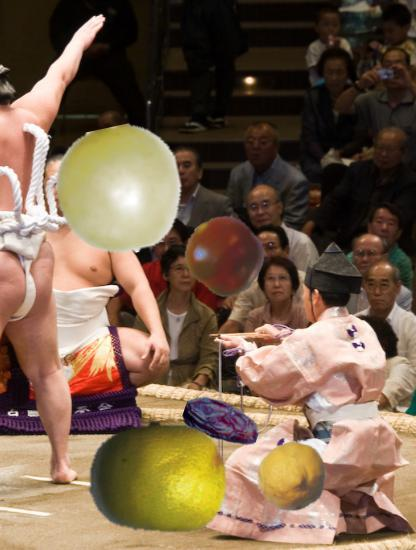Dates: (183, 382, 261, 460)
Grape: (55, 127, 183, 255)
Lemon: (256, 441, 328, 513)
Pomelo: (87, 406, 229, 548)
Tomato: (184, 216, 265, 297)
